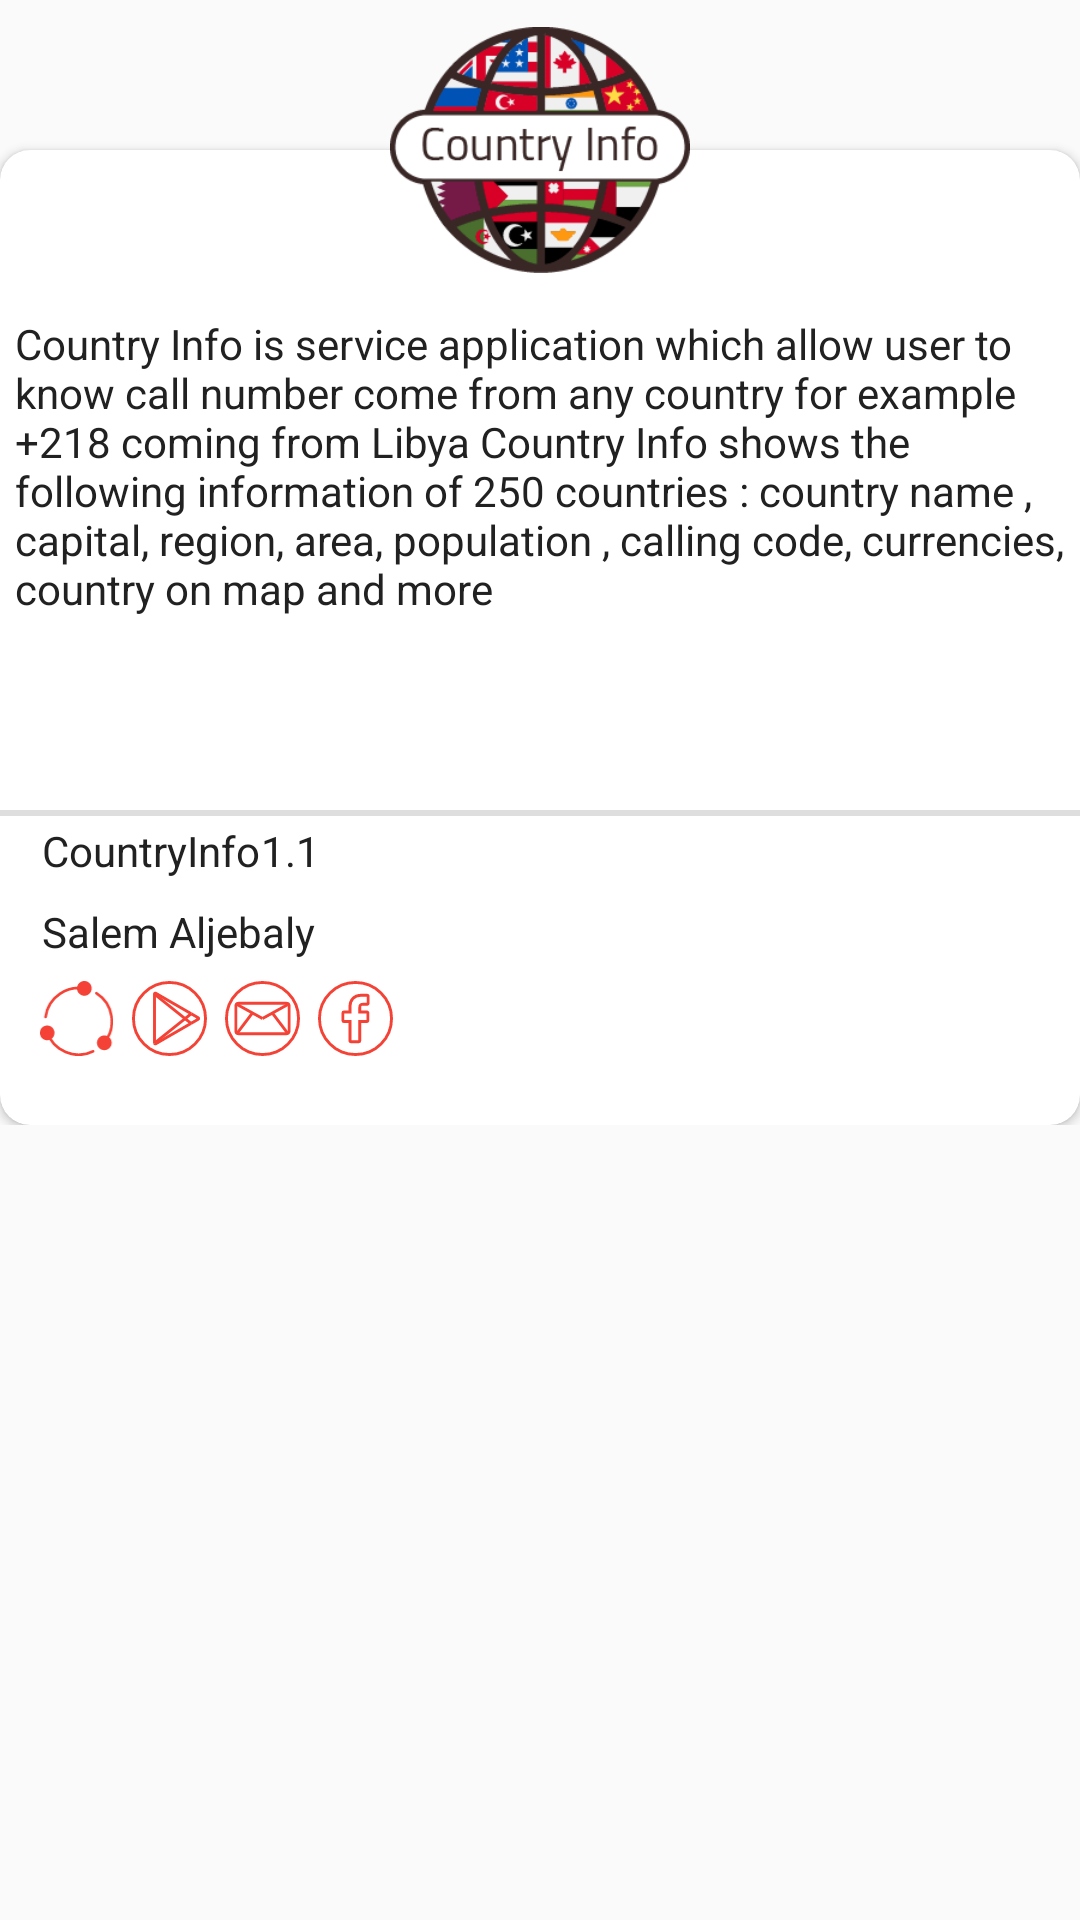

Where to tap for icons on this 1080×1920 app screen, as point (x, y):
mail: point (262, 1018)
share: point (76, 1018)
